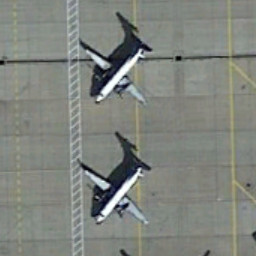Airplane: (68, 148, 156, 241), (73, 23, 158, 115)
